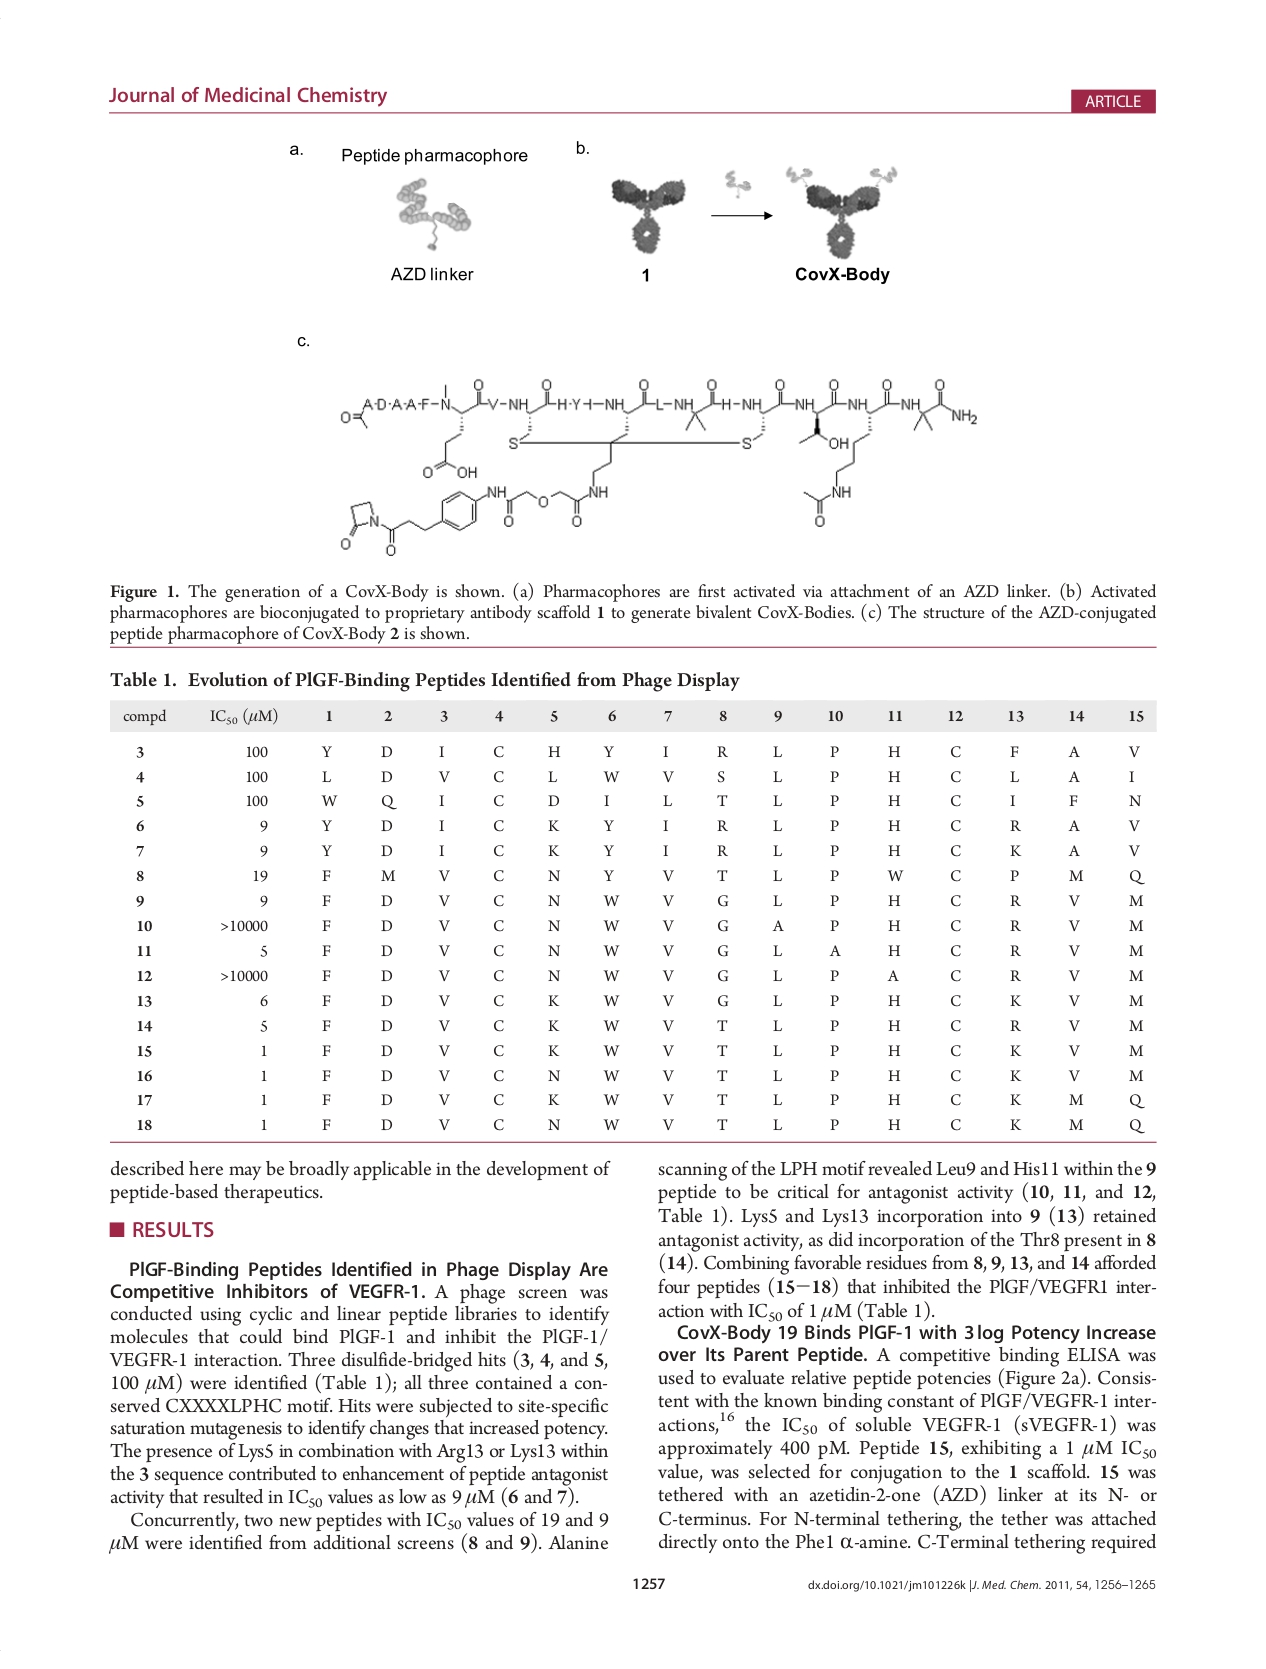exist_molecular: (332, 370, 984, 556)
